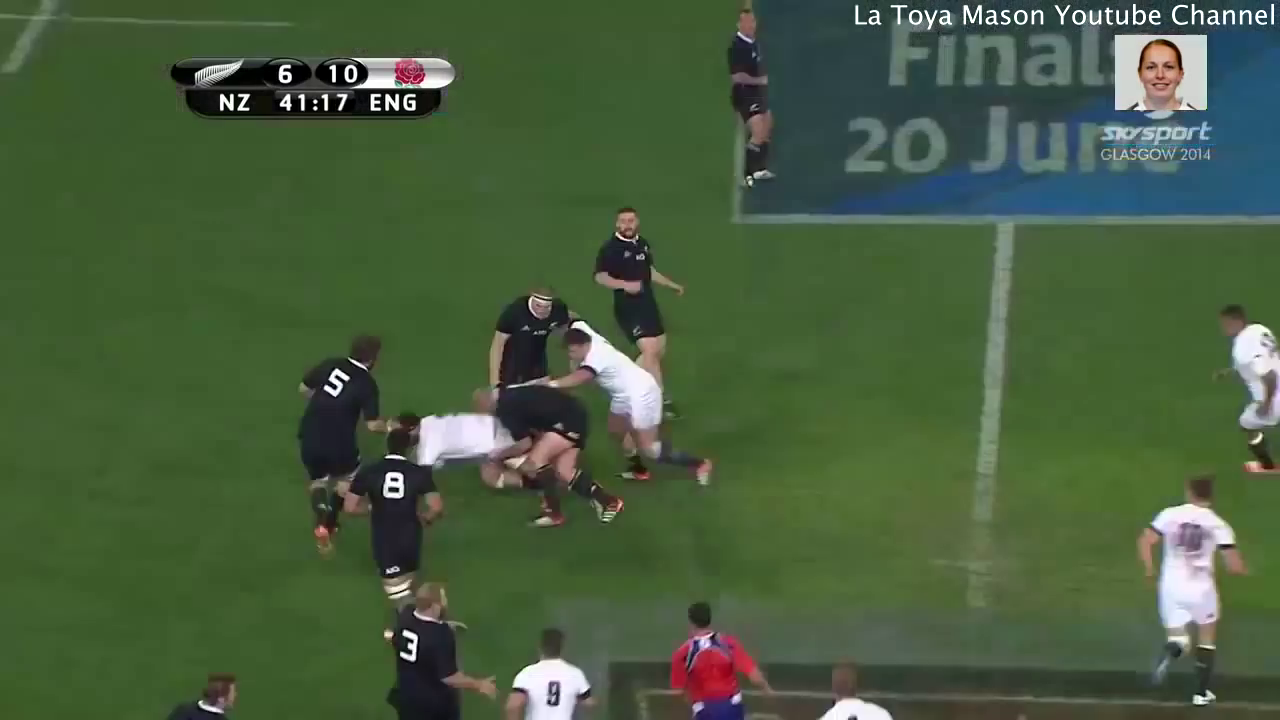player: (548, 328, 713, 492), (477, 379, 629, 535), (289, 332, 389, 561), (1134, 477, 1227, 710), (588, 207, 683, 373), (373, 585, 487, 720), (347, 428, 435, 594), (713, 5, 786, 191), (1209, 299, 1280, 477), (669, 599, 771, 720), (392, 408, 511, 487), (496, 628, 592, 720), (495, 292, 572, 372), (806, 660, 891, 720)
